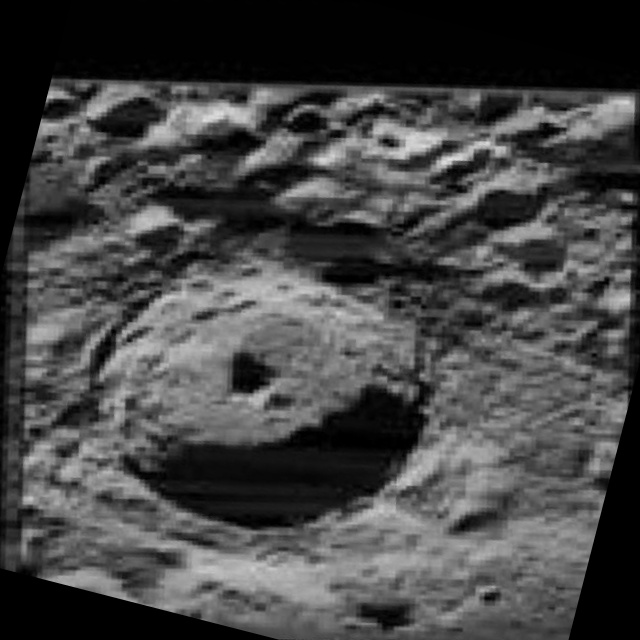crater: (91, 230, 489, 574)
